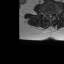CCS_normal: (49, 11, 51, 19)
LFS_severe_stenosis: (53, 11, 54, 16)
LLS_stenosis: (51, 11, 53, 16)
RFS_severe_stenosis: (46, 11, 48, 16)
RLS_severe_stenosis: (48, 11, 49, 17)
